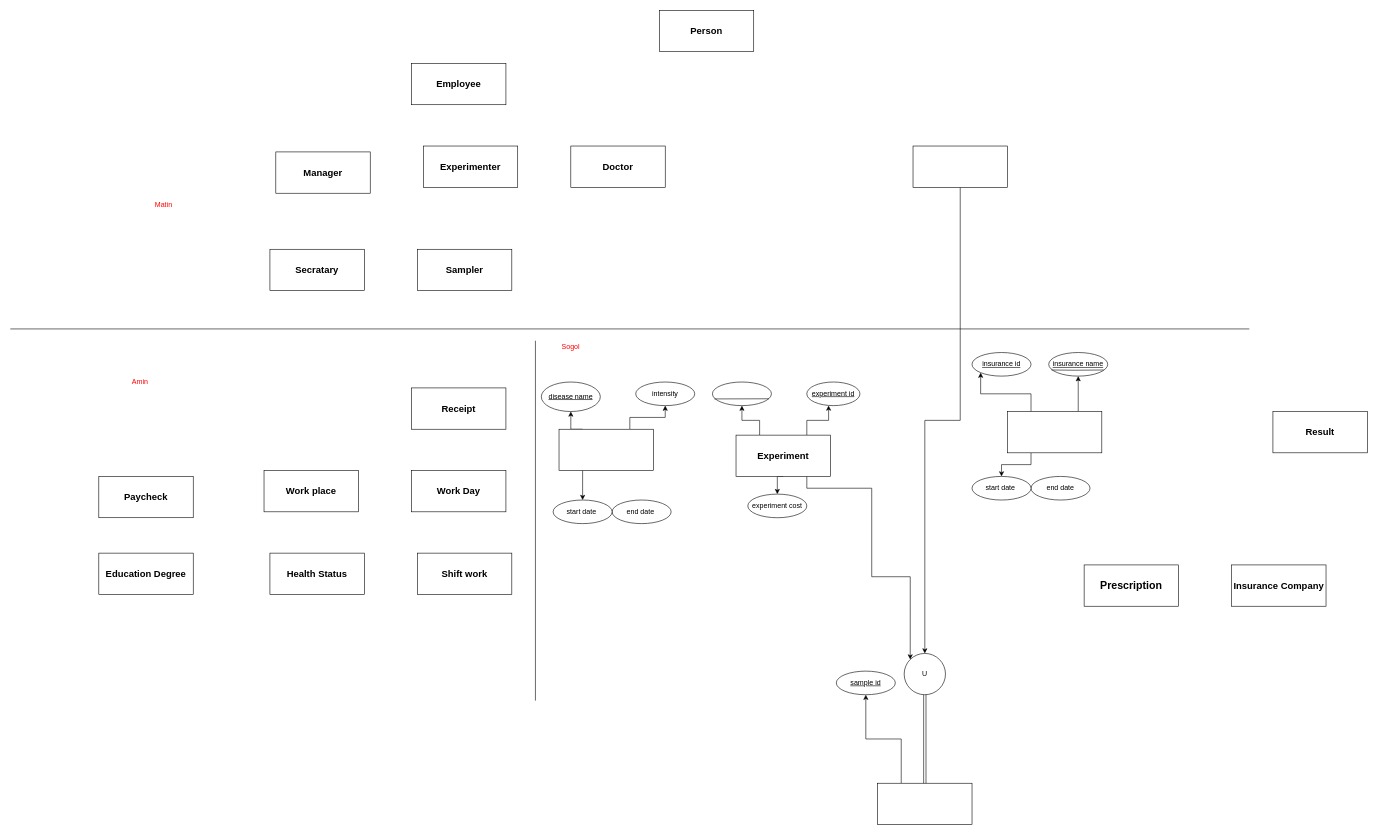
This 1378x835 diagram has some shape labels left out. The centre of each missing label's shape, as x and y in pixels:
"Disease Background" belongs at (x=605, y=450).
"experiment name" belongs at (x=741, y=393).
"Patient" belongs at (x=959, y=166).
"Patient Insurance" belongs at (x=1054, y=432).
"Sample" belongs at (x=924, y=804).
